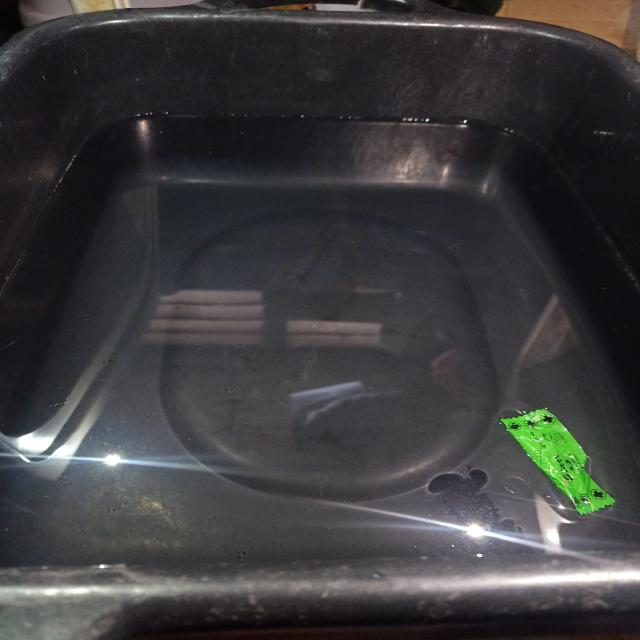Plastic Wrapper: (469, 389, 640, 536)
